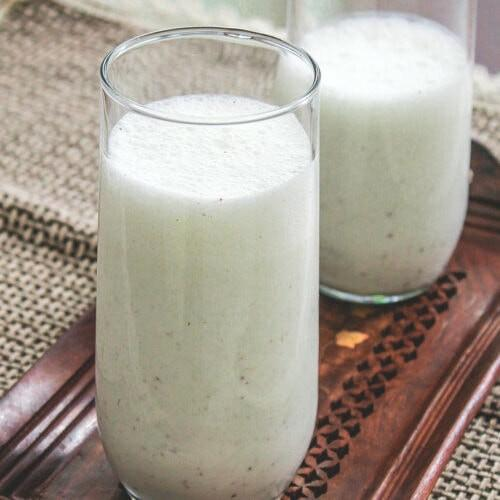Lassi: (97, 94, 320, 500), (276, 14, 474, 294)
